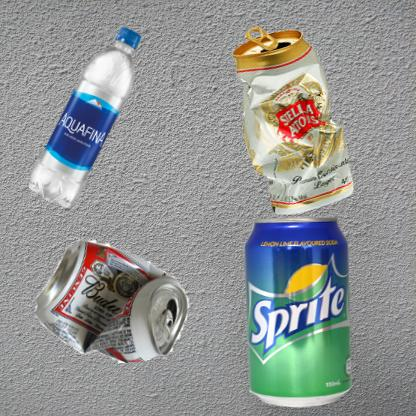botella: (10, 10, 216, 290)
lata: (213, 10, 386, 259), (10, 213, 223, 378), (213, 213, 384, 412)
